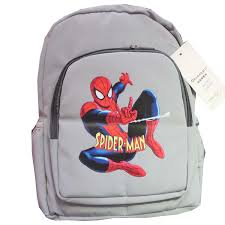bag: (39, 4, 201, 219)
